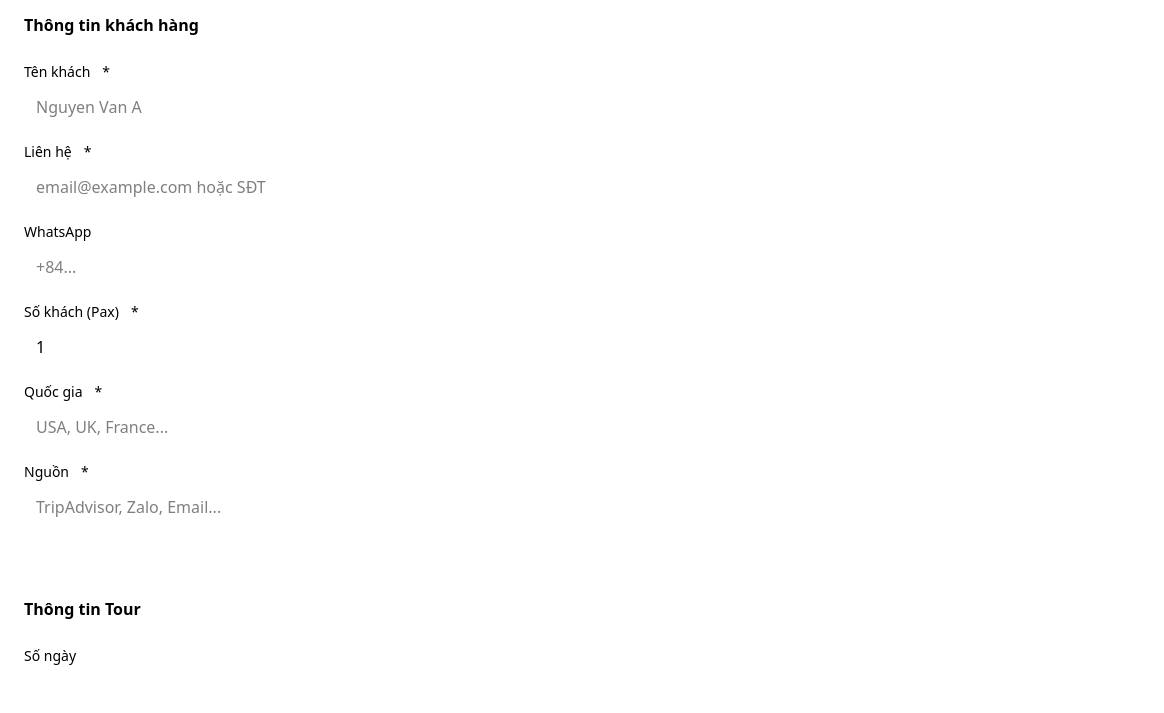
Test: RequestForm › Form Validation Edge Cases › Empty Fields Validation › shows error when contact is empty
The image size is (1164, 713).
# Fill other fields but leave contact empty
In the field with placeholder "Nguyen Van A": (576, 107) [24,85,1128,129], type "Valid Name"
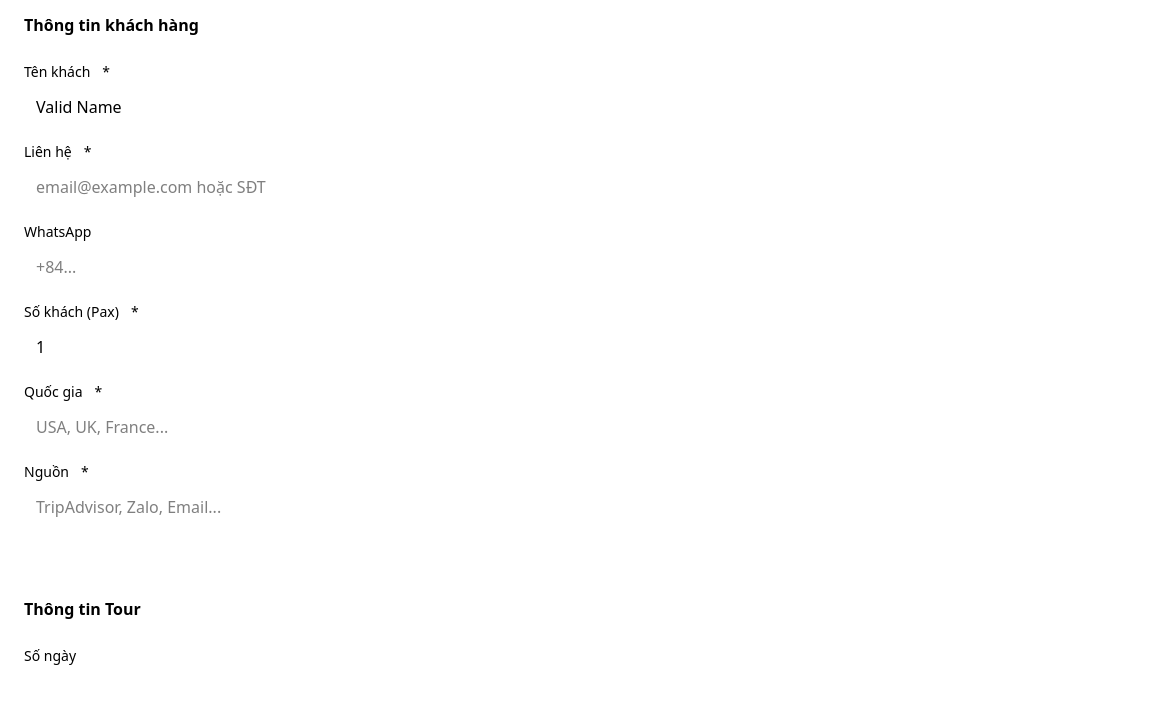
In the field with placeholder "USA, UK, France...": (576, 427) [24,405,1128,449], type "Vietnam"
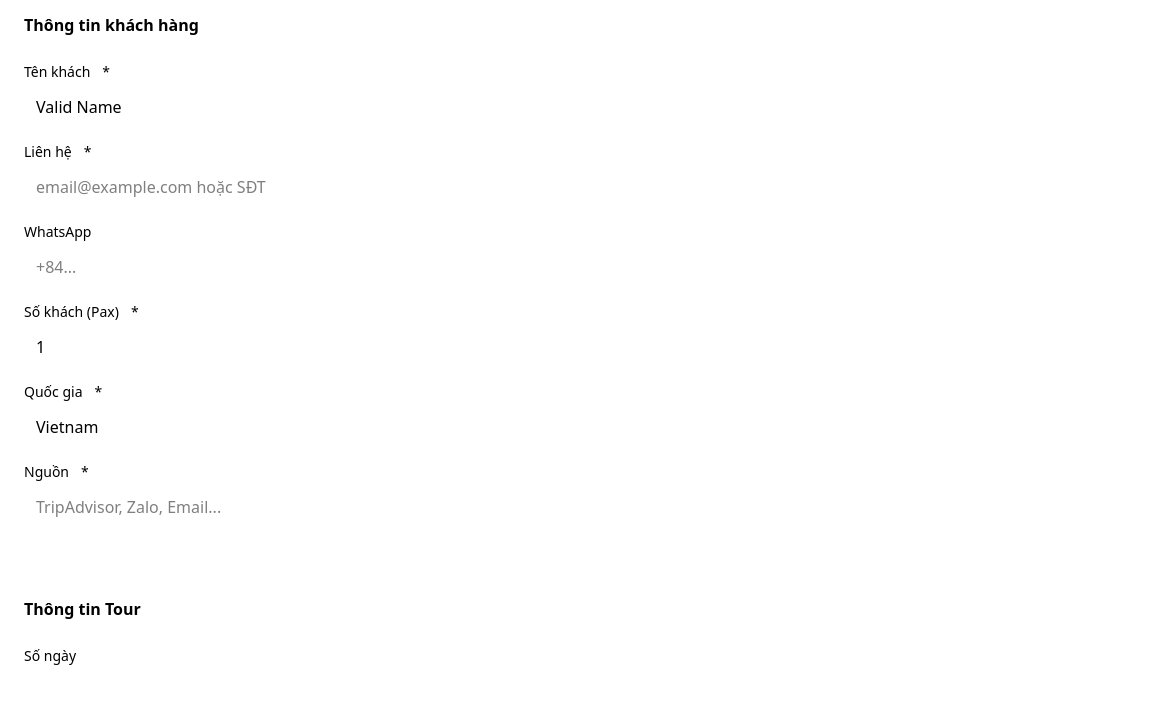
In the field with placeholder "TripAdvisor, Zalo, Email...": (576, 507) [24,485,1128,529], type "Direct"
(page scrolled)
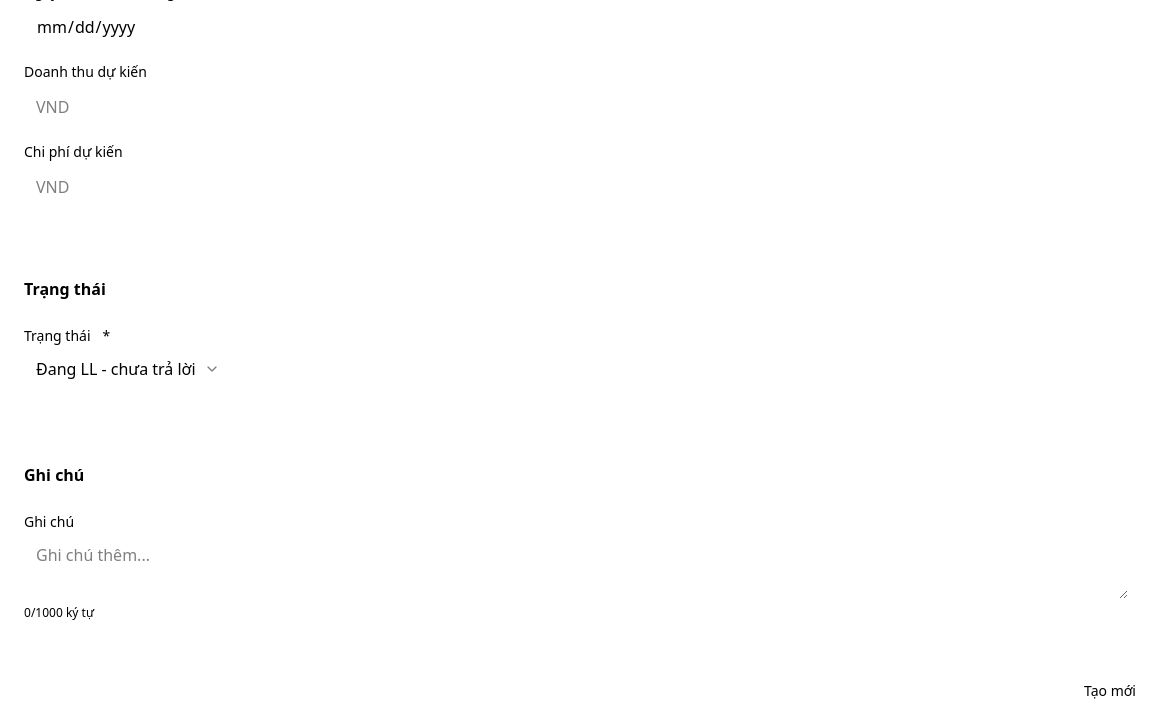
Click the button "Tạo mới": (1110, 691) [1068,669,1152,712]
(page scrolled)
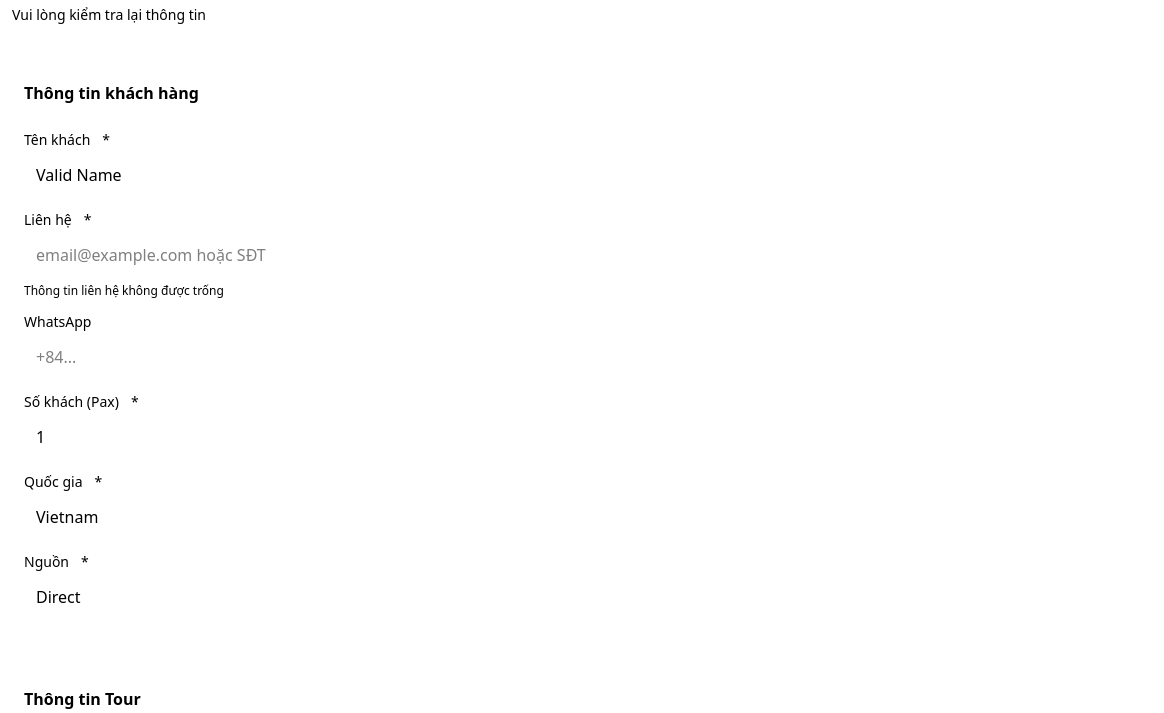
Now the text "Vui lòng kiểm tra lại thông tin" is shown, box [12,5,206,24]
